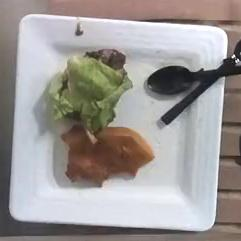bun: (61, 125, 153, 182)
lettuce: (44, 49, 132, 133)
